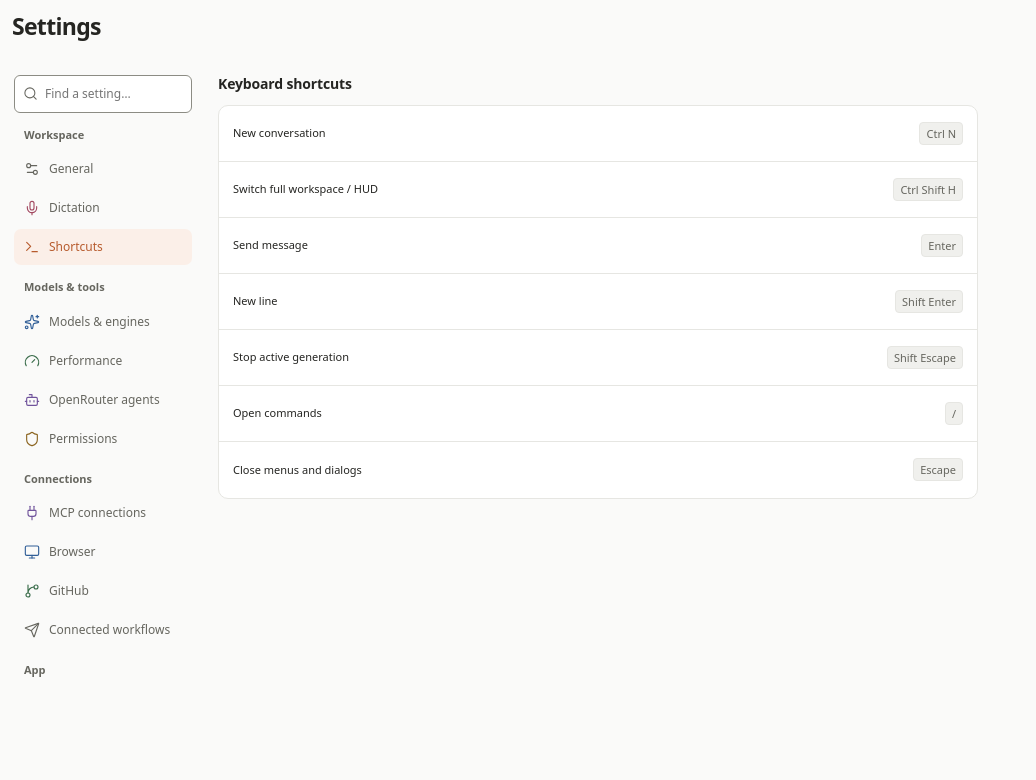
Test: Settings search retains the current owner › keeps the current section visible while counting only matching sections
In the field labelled "Find a setting": [114, 94] box [45,85,183,103], type "API key"
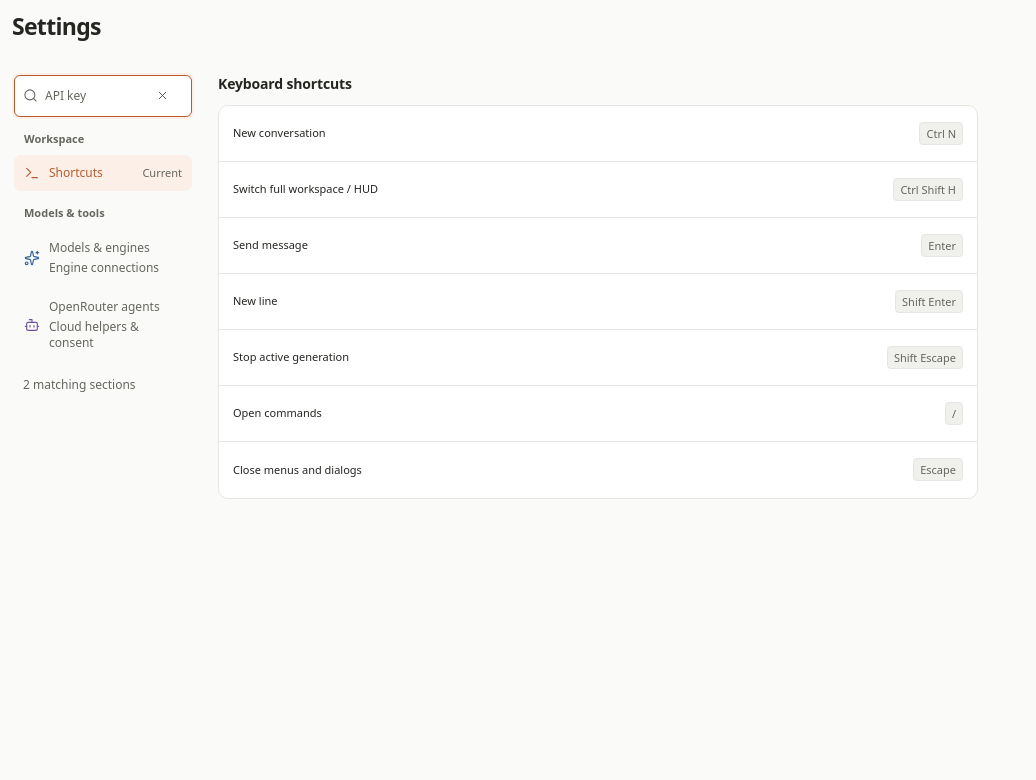
Expected: the message reads "2 matching sections", [23,376,136,393]
Expected: the text "Current" is shown, [142,165,182,182]
Expected: the text "Engine connections" is shown, [49,259,159,276]
